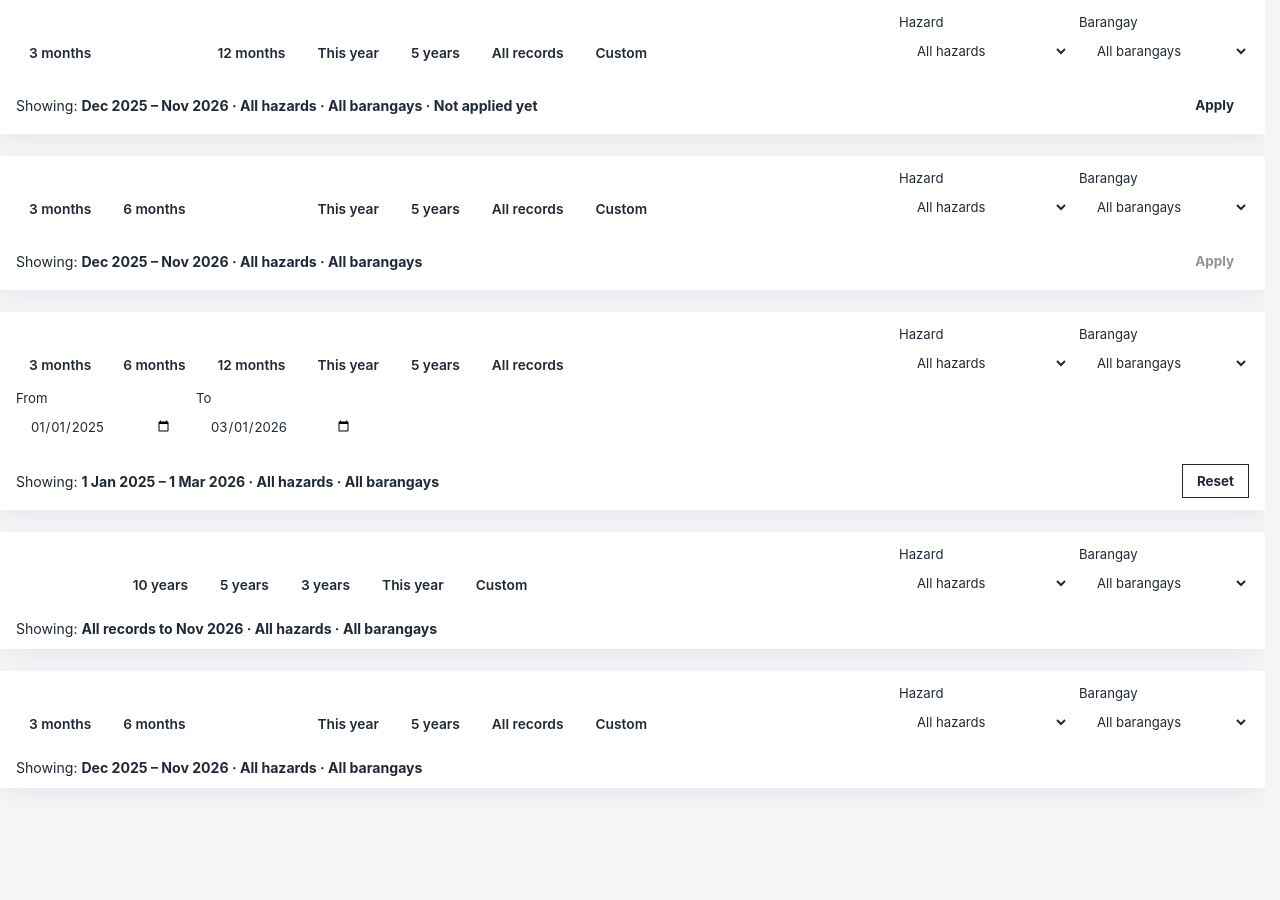
Test: a preset sends only the period
The width and height of the screenshot is (1280, 900).
Click the 4th button "6 months" at (154, 724), box 110,709 -> 198,739
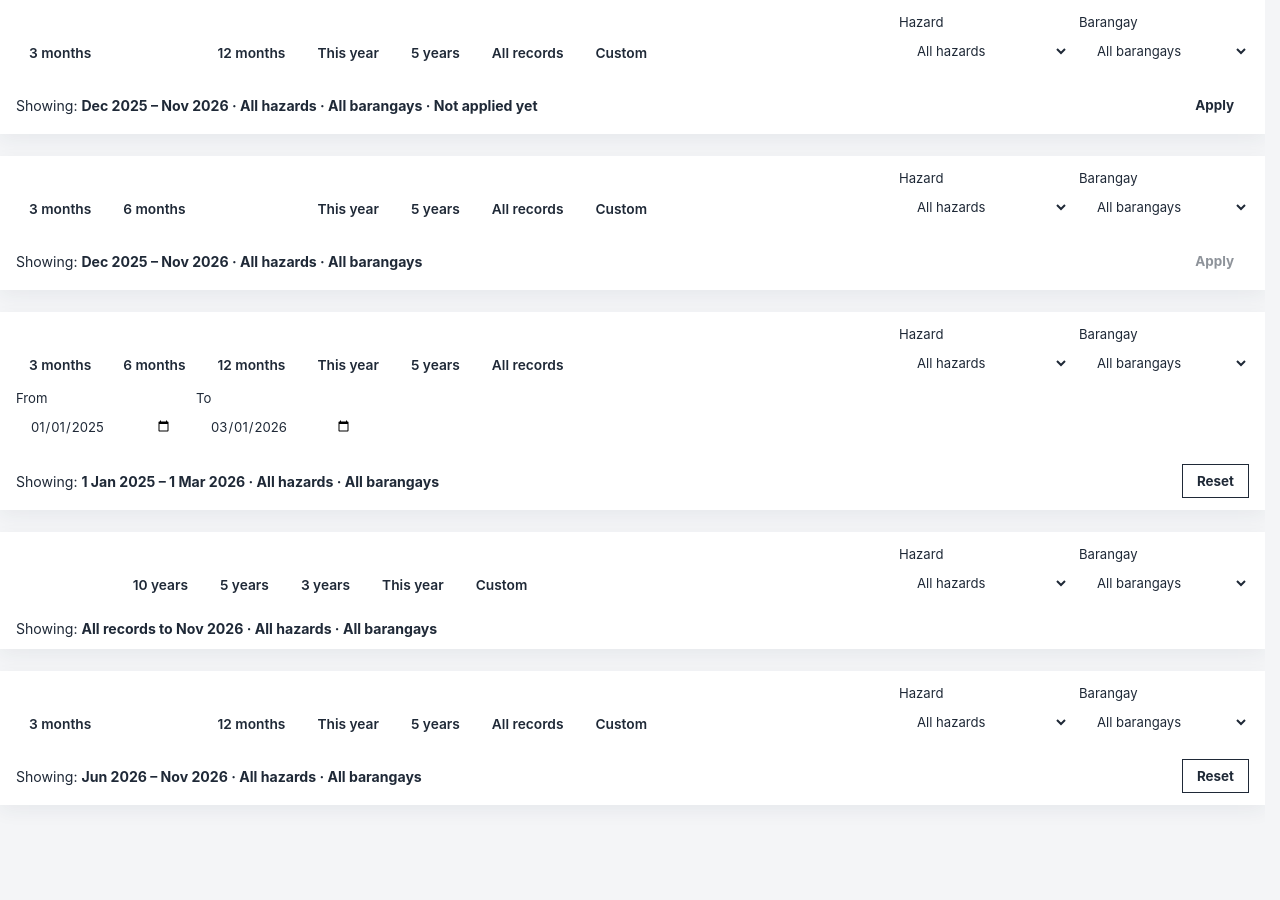
Check: the text "Showing: Jun 2026 – Nov 2026 · All hazards · All barangays" is shown, box 16,768 -> 422,784
